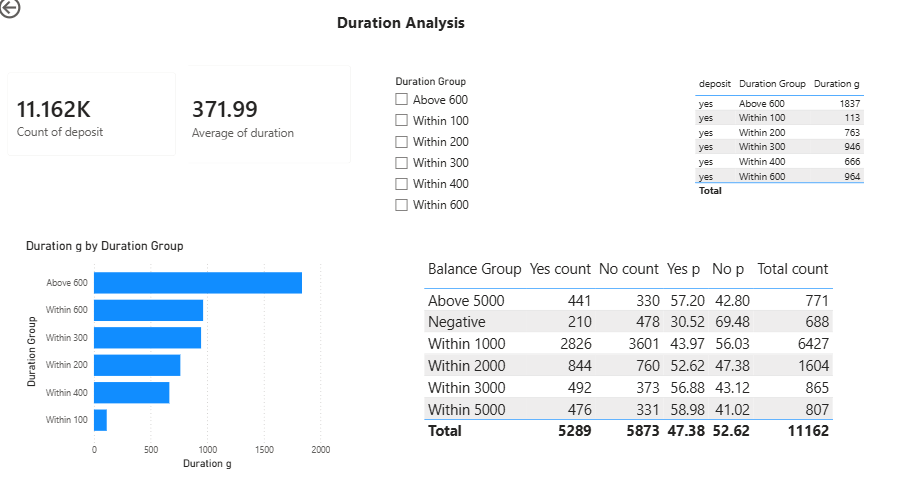

Layout of this report page (visuals, bound fields, positions):
{"tool":"powerbi","page":{"name":"Duration Analysis","canvas":[1280,720],"ordinal":4},"visuals":[{"type":"cardVisual","fields":{"Data":["Avg(dataset for intern.duration)"]},"box":[241.5,82,266.3,169.8],"z":0},{"type":"cardVisual","fields":{"Data":["CountNonNull(dataset for intern.deposit)"]},"box":[0,92.2,266.3,149.3],"z":1000},{"type":"clusteredBarChart","fields":{"Category":["dataset for intern.Duration Group"],"Y":["dataset for intern.Duration g"]},"box":[36.6,336.6,428.8,323.4],"z":2000},{"type":"tableEx","fields":{"Values":["dataset for intern.deposit","dataset for intern.Duration Group","dataset for intern.Duration g"]},"box":[958.5,108.3,266.3,203.4],"z":4000},{"type":"slicer","fields":{"Values":["dataset for intern.Duration Group"]},"box":[538.5,108.3,266.3,212.2],"z":5000},{"type":"tableEx","fields":{"Values":["dataset for intern.Balance Group","dataset for intern.Yes count","dataset for intern.No count","dataset for intern.Yes p","dataset for intern.No p","dataset for intern.Total count"]},"box":[584.6,359.5,665.2,300.7],"z":6000},{"type":"actionButton","box":[0,0,100,40],"z":7000},{"type":"textbox","box":[1130,108,150,212],"z":7001},{"type":"textbox","box":[465.4,20.5,411.2,71.7],"z":7002}]}

Visuals, with their boxes on the page's 1280x720 design canvas (x1, y1, x2, y2). These are canvas units, not pixel positions in the 911x488 screenshot, which may show the page scaled, cropped or inside an application window:
cardVisual - Avg(dataset for intern.duration): Rect(242, 82, 508, 252)
cardVisual - CountNonNull(dataset for intern.deposit): Rect(0, 92, 266, 242)
clusteredBarChart - dataset for intern.Duration Group x dataset for intern.Duration g: Rect(37, 337, 465, 660)
tableEx - dataset for intern.deposit x dataset for intern.Duration Group: Rect(958, 108, 1225, 312)
slicer - dataset for intern.Duration Group: Rect(538, 108, 805, 320)
tableEx - dataset for intern.Balance Group x dataset for intern.Yes count: Rect(585, 360, 1250, 660)
actionButton: Rect(0, 0, 100, 40)
textbox: Rect(1130, 108, 1280, 320)
textbox: Rect(465, 20, 877, 92)
